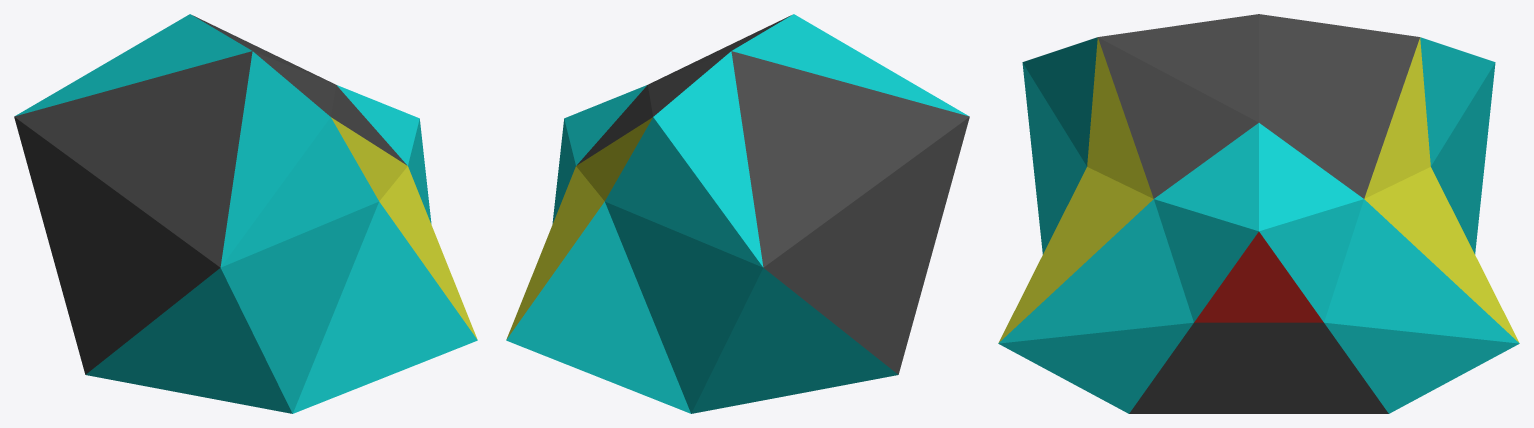
The model's file is enemy3.obj.
The picture shows the model from 3 angles, left to right: view 1: azimuth 30°, elevation 25°; view 2: azimuth 150°, elevation 25°; view 3: azimuth 270°, elevation 25°; orthographic projection. The views are drawn at different scales.
Visible parts, largest first — view 1: Icosphere; view 2: Icosphere; view 3: Icosphere.
Boxes of the visible parts, x1=… form: Icosphere: x1=14, y1=14, x2=477, y2=413; Icosphere: x1=506, y1=14, x2=969, y2=413; Icosphere: x1=998, y1=14, x2=1519, y2=413.
Size of the model in its own units: 1.79 by 1.74 by 2.11.
